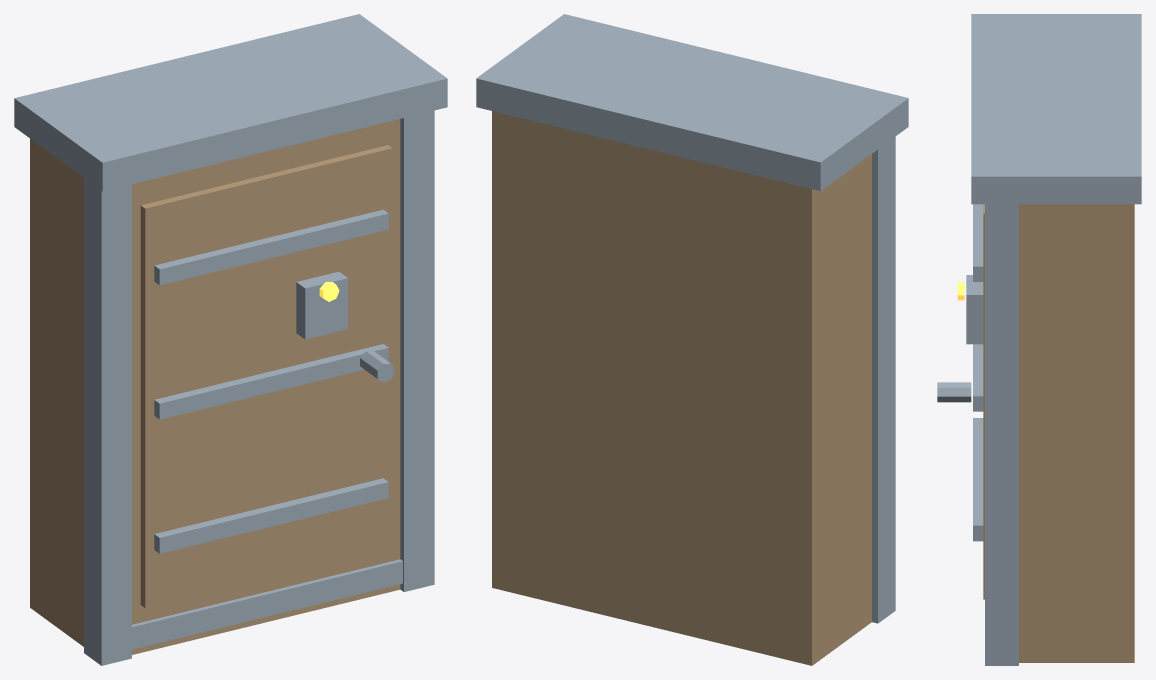
The model's file is wipe-day-survival-island-tool-cupboard-066740f5__27460.glb.
3 renders of one model, left to right at view 1: azimuth 30°, elevation 25°; view 2: azimuth 150°, elevation 25°; view 3: azimuth 270°, elevation 25°, orthographic. The views are drawn at different scales.
Parts seen in each view (by area): view 1: tool-cupboard, door/wood, door/metal; view 2: tool-cupboard; view 3: tool-cupboard, door/metal, door/wood.
Part boxes in pixels (box(x1,y1,x2,y2)): tool-cupboard: box(14, 14, 447, 665); door/wood: box(140, 145, 392, 608); door/metal: box(154, 209, 394, 553); tool-cupboard: box(476, 14, 908, 665); tool-cupboard: box(957, 14, 1141, 665); door/metal: box(937, 204, 983, 541); door/wood: box(983, 204, 984, 599).
Bounding box in the file's own units: 1.13 × 1.6 × 0.6.
